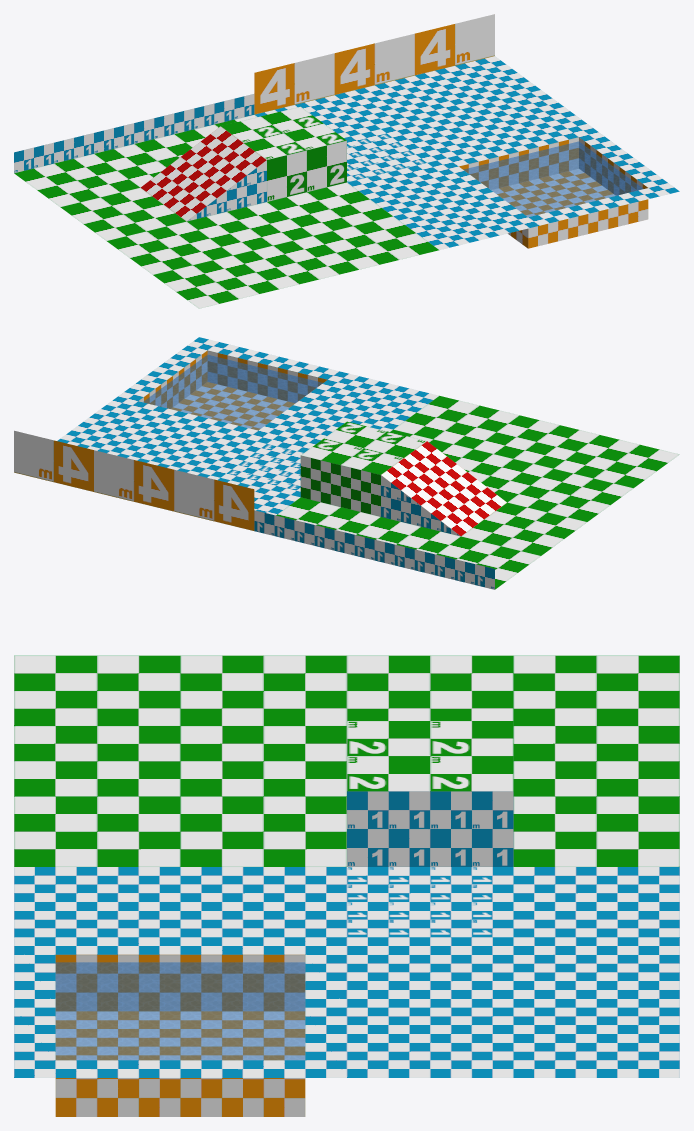
The model's file is xTestRoom1.obj.
3 views of the same model, one above another, from view 1: azimuth 30°, elevation 25°; view 2: azimuth 150°, elevation 25°; view 3: azimuth 270°, elevation 25° (orthographic). The views are drawn at different scales.
Parts seen in each view (by area): view 1: Grid; view 2: Grid; view 3: Grid.
Part boxes in pixels (<box>): Grid: <box>14,14,679,308</box>; Grid: <box>14,337,679,589</box>; Grid: <box>14,655,679,1116</box>.
Bounding box in the file's own units: 48 × 7 × 32.
